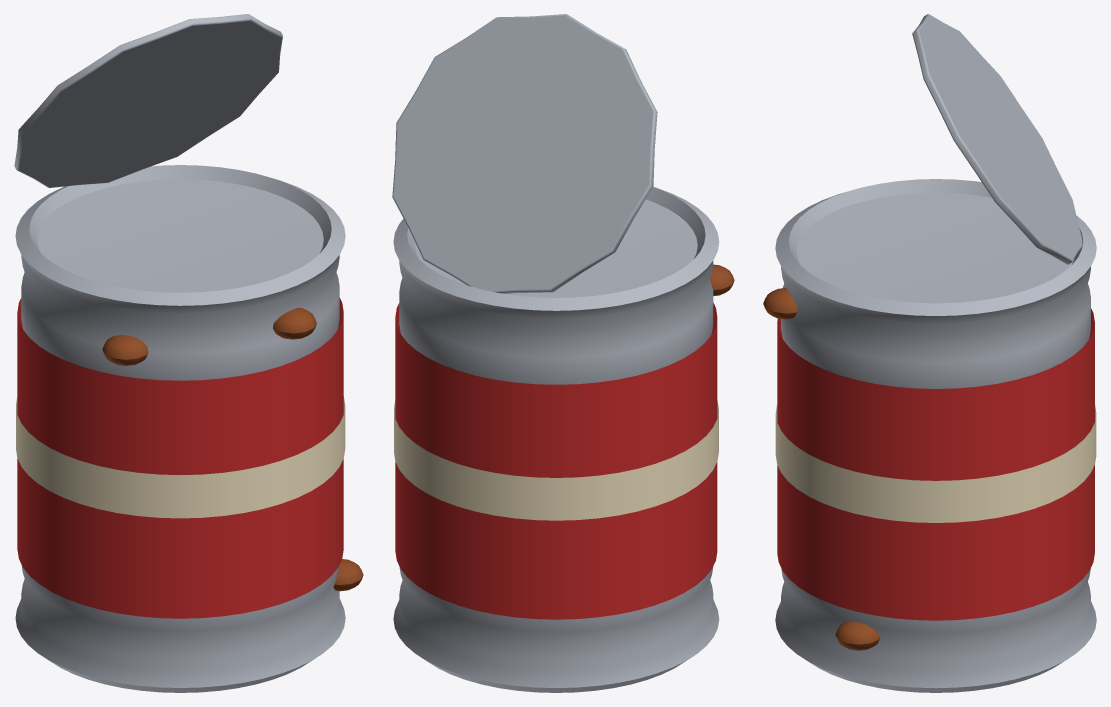
The model's file is TinCan.fbx.
3 renders of one model, left to right at view 1: azimuth 30°, elevation 25°; view 2: azimuth 150°, elevation 25°; view 3: azimuth 270°, elevation 25°, orthographic. The views are drawn at different scales.
Visible parts, largest first — view 1: Tin, Label, Stripe, Rust; view 2: Tin, Label, Stripe, Rust; view 3: Tin, Label, Stripe, Rust.
Part boxes in pixels (<box>): Tin: <box>14,14,345,692</box>; Label: <box>17,298,343,618</box>; Stripe: <box>16,396,345,518</box>; Rust: <box>102,308,363,591</box>; Tin: <box>392,14,719,692</box>; Label: <box>395,303,717,619</box>; Stripe: <box>394,400,718,520</box>; Rust: <box>710,264,734,295</box>; Tin: <box>775,14,1096,692</box>; Label: <box>777,308,1094,620</box>; Stripe: <box>775,404,1096,522</box>; Rust: <box>763,288,879,650</box>.
Bounding box in the file's own units: 83 × 171 × 86.14.
